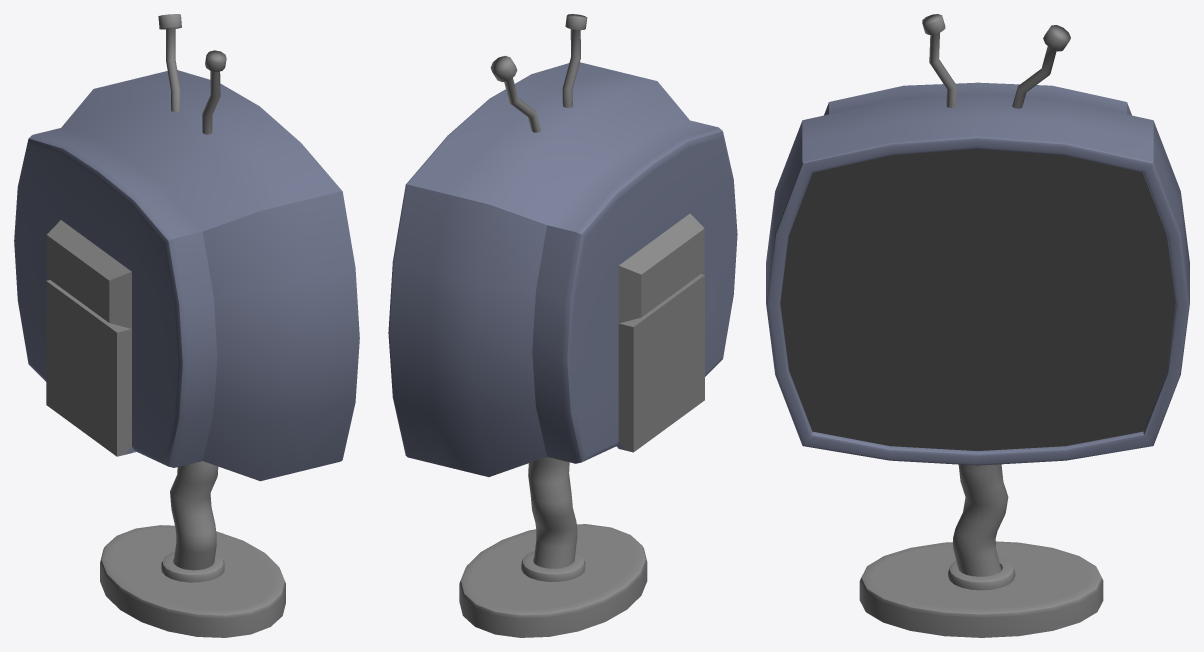
The model's file is television.fbx.
3 views of the same model, side by side, from view 1: azimuth 30°, elevation 25°; view 2: azimuth 150°, elevation 25°; view 3: azimuth 270°, elevation 25° (orthographic). The views are drawn at different scales.
Parts seen in each view (by area): view 1: television; view 2: television; view 3: television.
Boxes of the visible parts, left/top/right/bottom form: television: left=14, top=14, right=359, bottom=637; television: left=388, top=14, right=737, bottom=637; television: left=766, top=14, right=1189, bottom=637.
Bounding box in the file's own units: 162 × 453 × 298.
